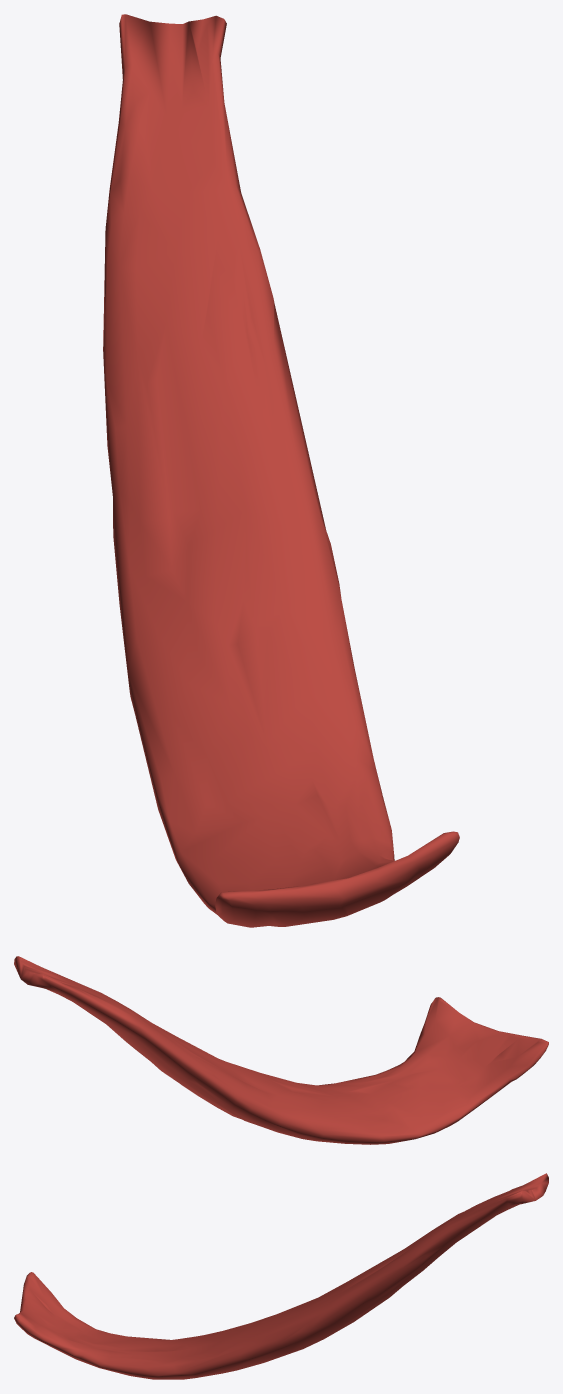
The model's file is musculos-inferior-rectus-muscle-r.glb.
3 views of the same model, one above another, from view 1: azimuth 30°, elevation 25°; view 2: azimuth 150°, elevation 25°; view 3: azimuth 270°, elevation 25° (orthographic). The views are drawn at different scales.
Visible parts, largest first — view 1: Inferior rectus muscle.r; view 2: Inferior rectus muscle.r; view 3: Inferior rectus muscle.r.
Boxes of the visible parts, x1,y1,x2,y2 form: Inferior rectus muscle.r: [103, 14, 459, 927]; Inferior rectus muscle.r: [14, 956, 548, 1144]; Inferior rectus muscle.r: [14, 1173, 548, 1379].
Bounding box in the file's own units: 0.0222 × 0.0218 × 0.0414.
